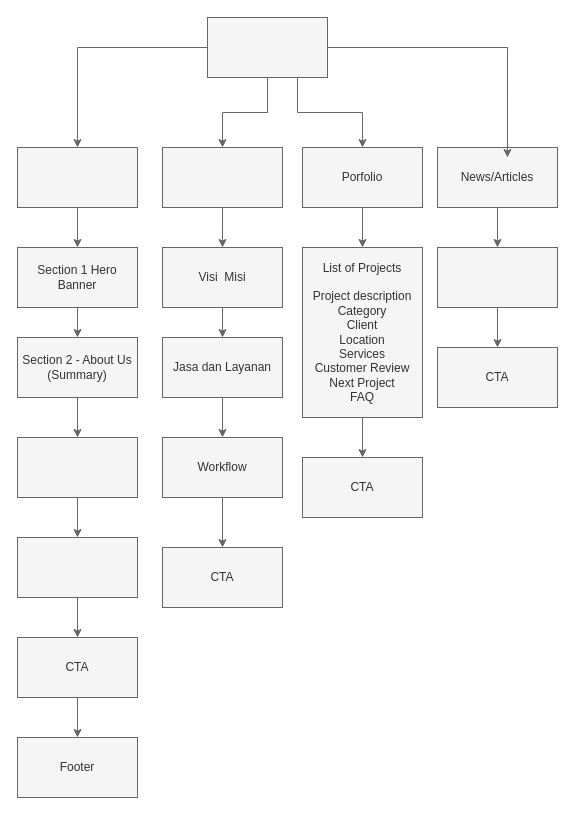
Image size: 575x815. Some labels were removed from this diagram. Each missing label, with the centre of its shape:
About Us: [222,177]
Landing page: [77,177]
List of articles: [497,277]
Section 3 - Portfolio Showcase: [77,467]
Section 4 - Clients: [77,567]
Website sjdinterior.com: [267,47]
